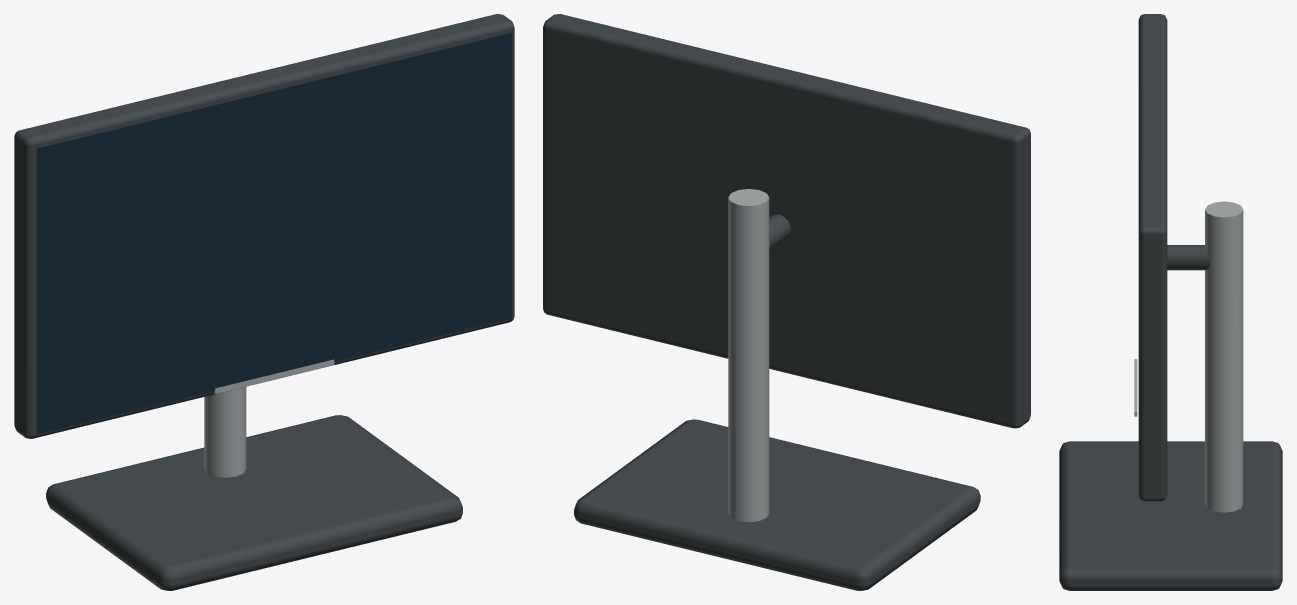
The model's file is mon_dorm_single-cca24d2ac1a5.glb.
3 renders of one model, left to right at view 1: azimuth 30°, elevation 25°; view 2: azimuth 150°, elevation 25°; view 3: azimuth 270°, elevation 25°, orthographic. The views are drawn at different scales.
Parts seen in each view (by area): view 1: Screen_Surface, surface_graphite, surface_steel; view 2: surface_graphite, surface_steel; view 3: surface_graphite, surface_steel.
Boxes of the visible parts, x1,y1,x2,y2 form: Screen_Surface: (36,33,512,434); surface_graphite: (14,14,514,590); surface_steel: (204,359,334,477); surface_graphite: (543,14,1030,590); surface_steel: (728,189,769,522); surface_graphite: (1059,14,1282,590); surface_steel: (1134,201,1243,512).
Size of the model in its own units: 0.484 by 0.4225 by 0.21.
